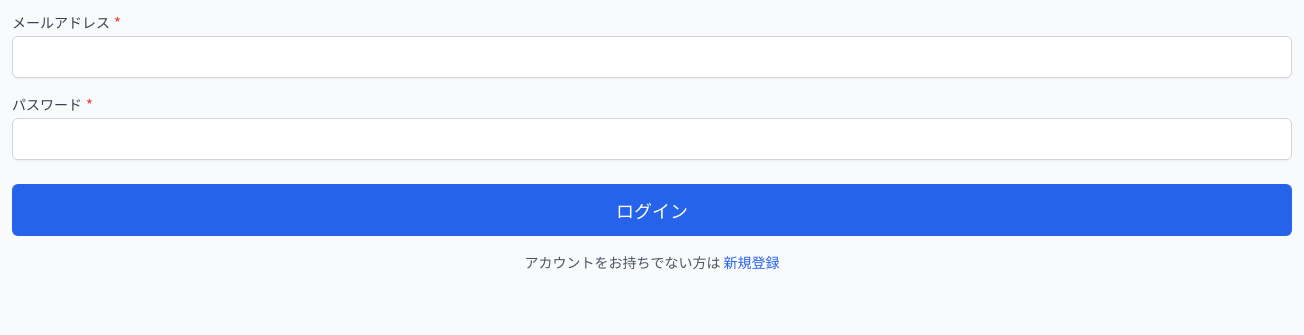
Test: LoginForm › 不正なメール形式でエラーが表示される（Requirement 2.7）
Type "invalid-email" into the field labelled "メールアドレス*" at (652, 57), box [12, 36, 1292, 78]
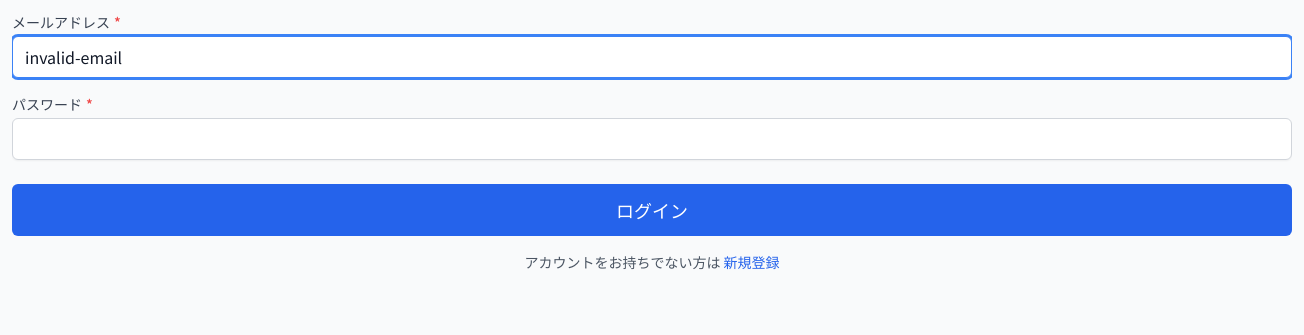
Click the button "ログイン" at (652, 210), box [12, 184, 1292, 236]
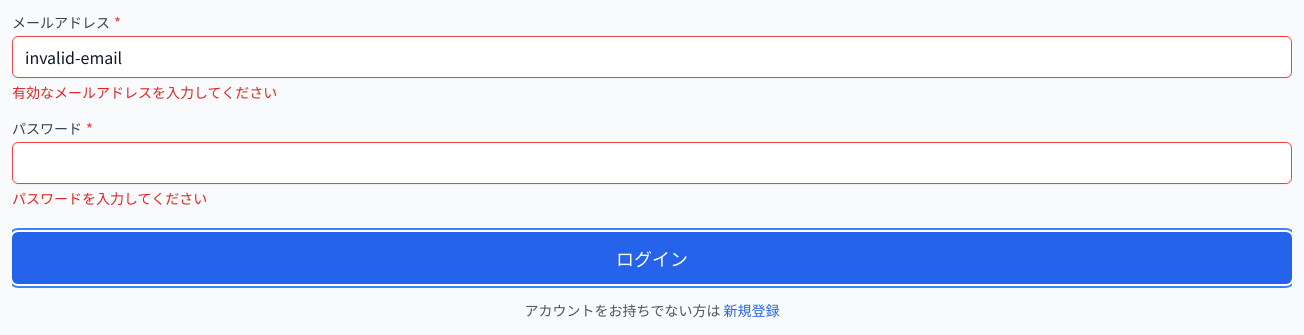
Expected: the text "有効なメールアドレスを入力してください" is shown, [12, 82, 277, 102]
